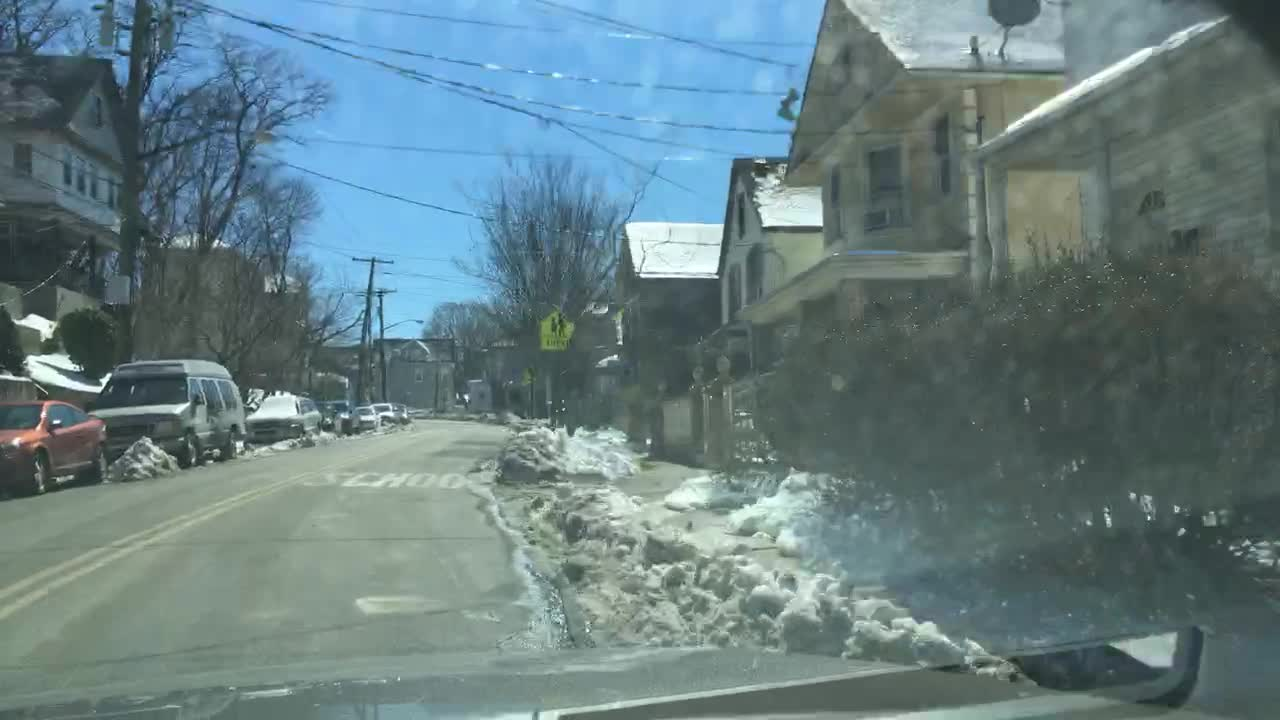car: (88, 356, 249, 466), (0, 398, 109, 496), (244, 390, 321, 442), (319, 396, 354, 436), (356, 406, 380, 431), (372, 401, 395, 426), (396, 401, 409, 424)
traffic sign: (534, 309, 577, 352), (519, 362, 535, 386)
